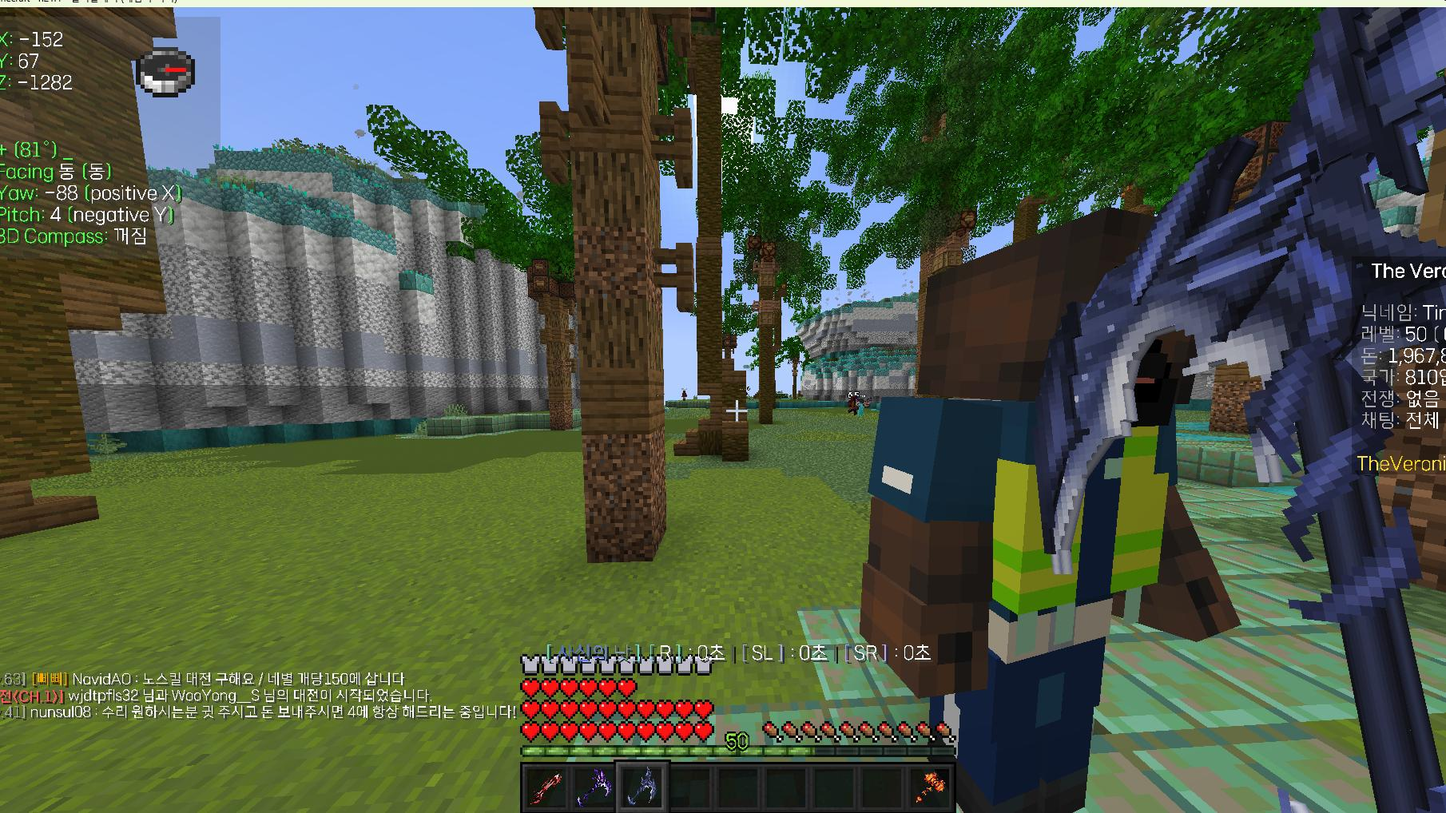Guardian: (860, 209, 1237, 811)
